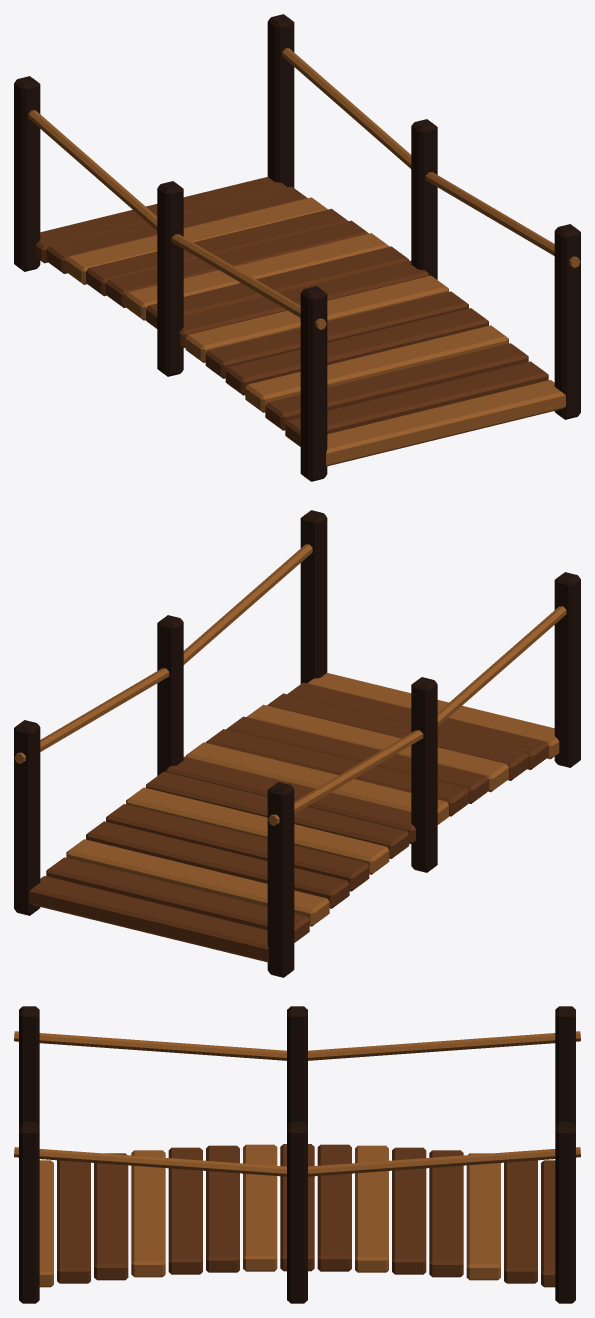
The model's file is Ponte_de_madeira_LOD0.fbx.
3 renders of one model, top to bottom at view 1: azimuth 30°, elevation 25°; view 2: azimuth 150°, elevation 25°; view 3: azimuth 270°, elevation 25°, orthographic. The views are drawn at different scales.
Parts seen in each view (by area): view 1: Ponte_de_madeira_LOD0; view 2: Ponte_de_madeira_LOD0; view 3: Ponte_de_madeira_LOD0.
Part boxes in pixels (left/top/right/bottom): Ponte_de_madeira_LOD0: left=14, top=14, right=580, bottom=481; Ponte_de_madeira_LOD0: left=14, top=510, right=580, bottom=977; Ponte_de_madeira_LOD0: left=14, top=1006, right=580, bottom=1303.
Size of the model in its own units: 198 by 130 by 381.
Materials: 1 (1 with a texture image).
